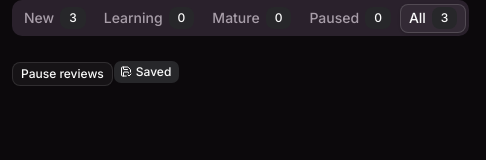
Test: ListRow › does not let a failed write roll back a different write that landed after it
This screenshot has width=486, height=160.
Click the button "Pause reviews": (62, 74) [12, 62, 113, 86]
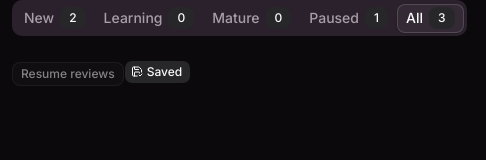
Click the button "Saved": (157, 72) [124, 60, 191, 84]
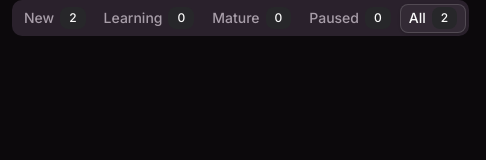
expect the button "Pause reviews" is not shown: met
expect the tab "New 2" is shown: met, box [15, 4, 95, 32]
expect the tab "Paused 0" is shown: met, box [300, 4, 400, 32]
